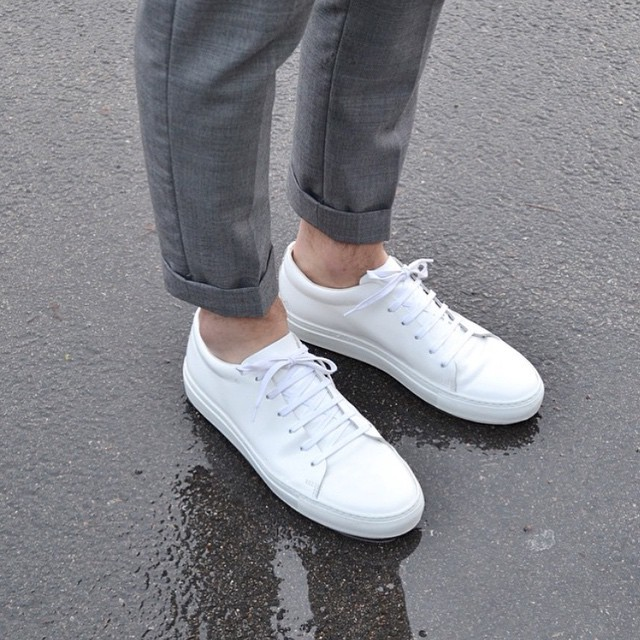sneaker: (141, 261, 443, 561), (266, 206, 563, 448)
